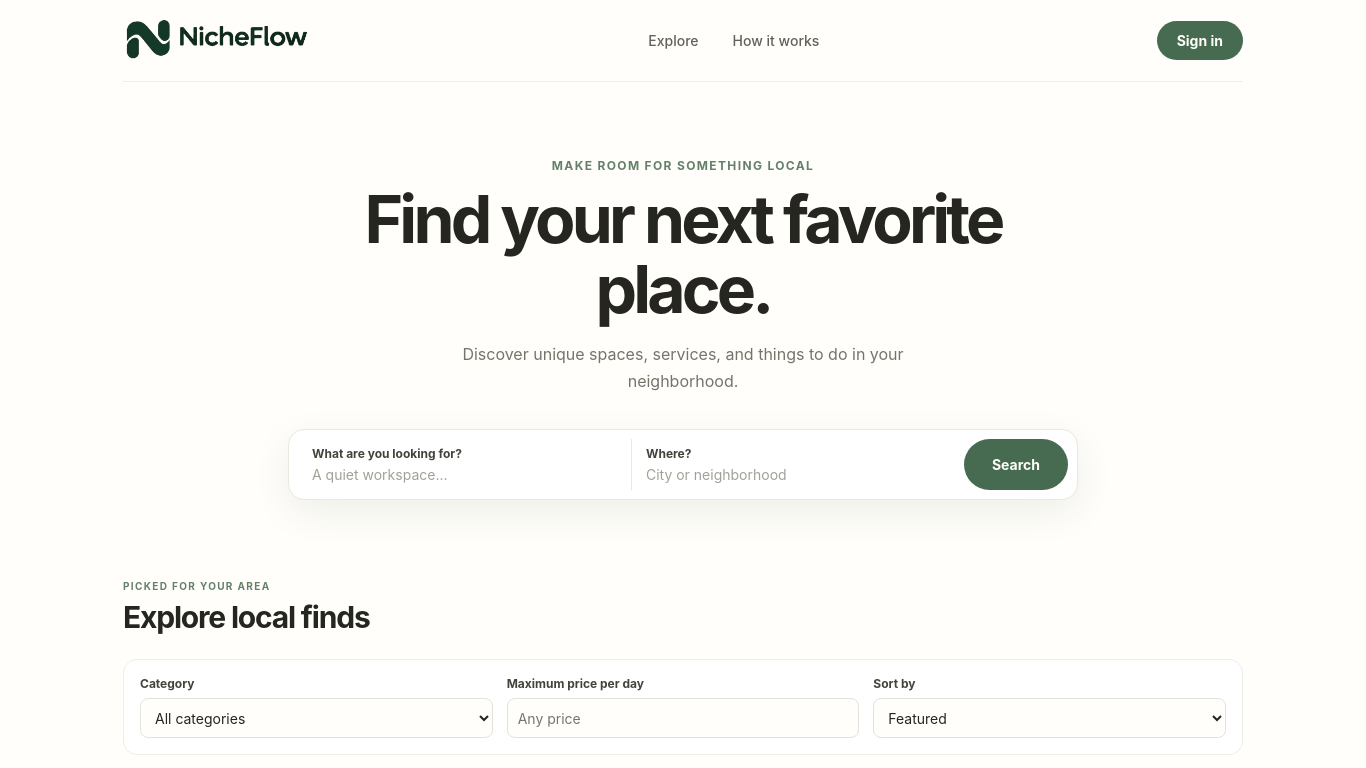
NicheFlow landing page › filters listings by keyword without case sensitivity
Step 1. Type "BIKE" into the search field labelled "What are you looking for?" → (460, 475), box left=312, top=466, right=609, bottom=483
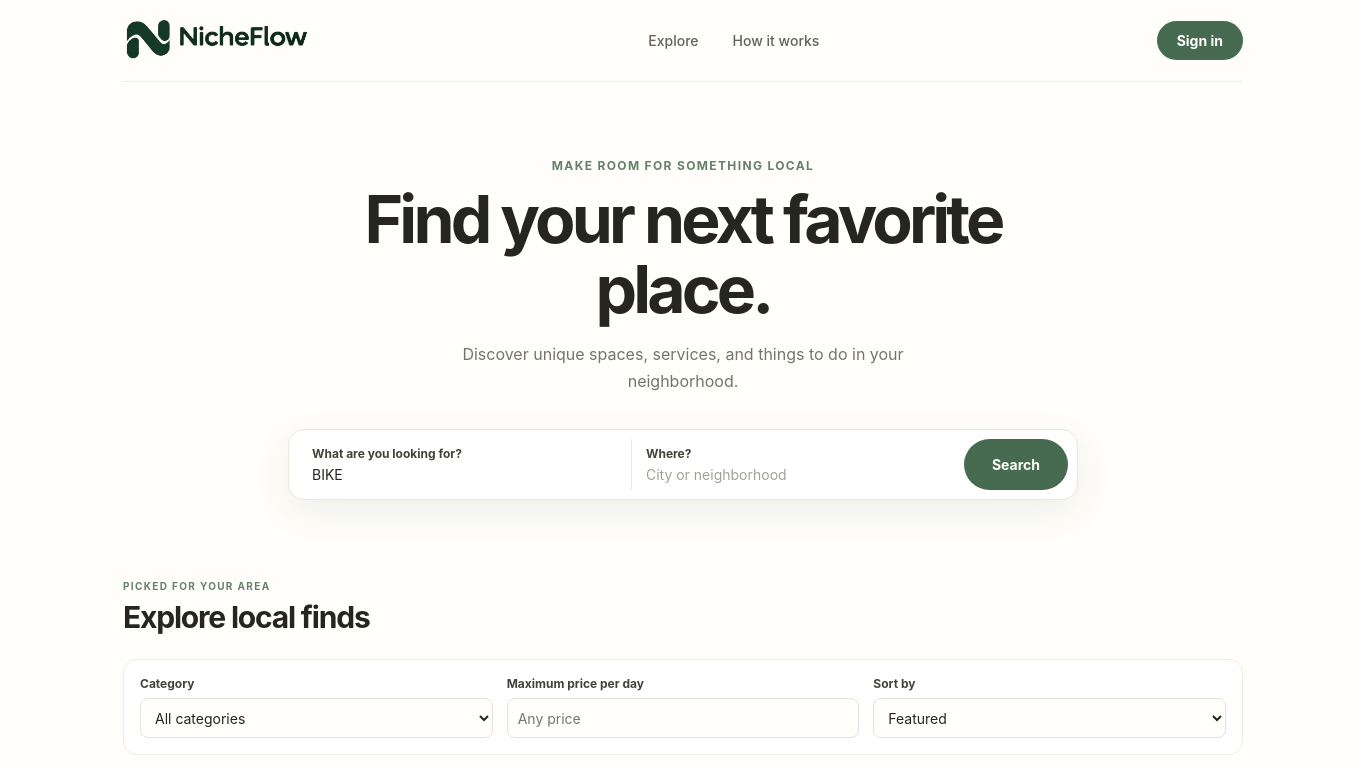
Step 2. Click the button "Search" → (1016, 465), box left=964, top=439, right=1068, bottom=490
(page scrolled)
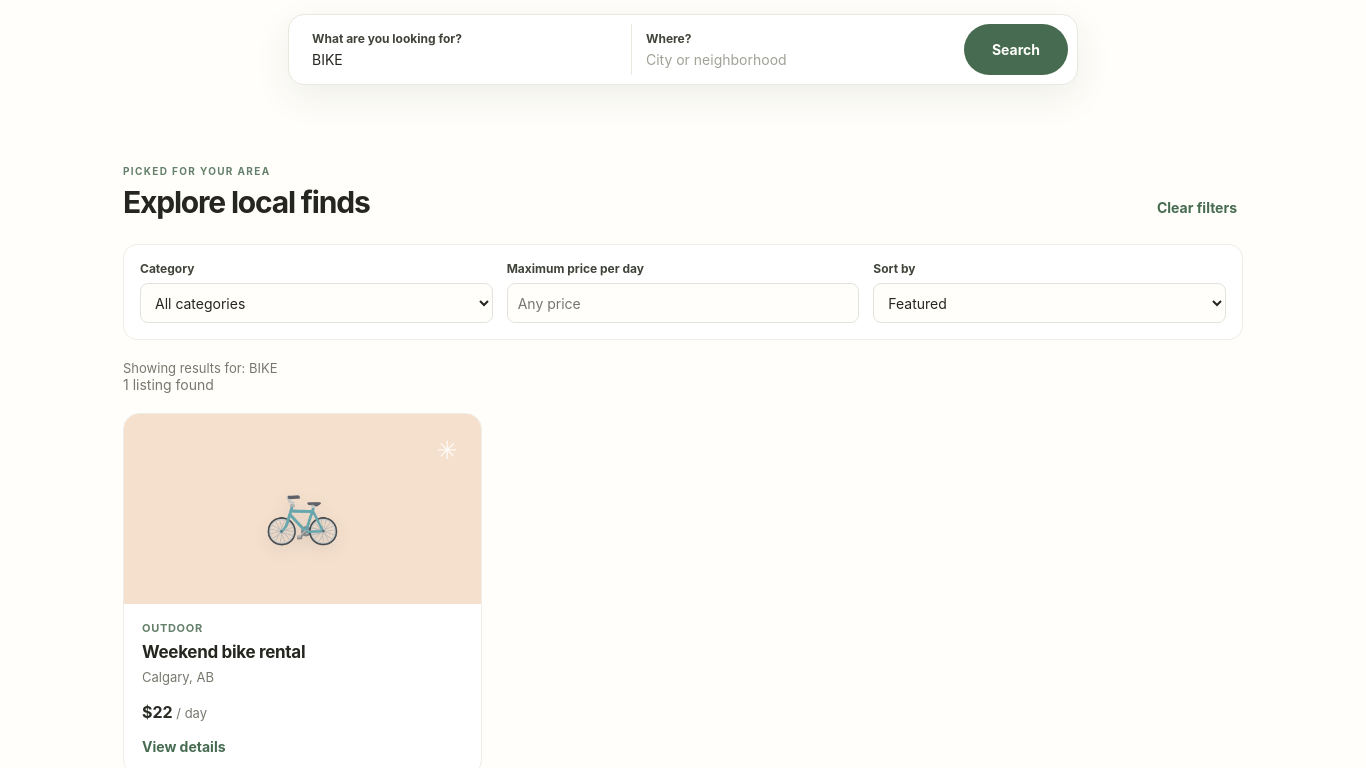
Expected: the heading "Weekend bike rental" is shown, left=142, top=642, right=305, bottom=662
Expected: the text "1 listing found" is shown, left=123, top=376, right=214, bottom=393
